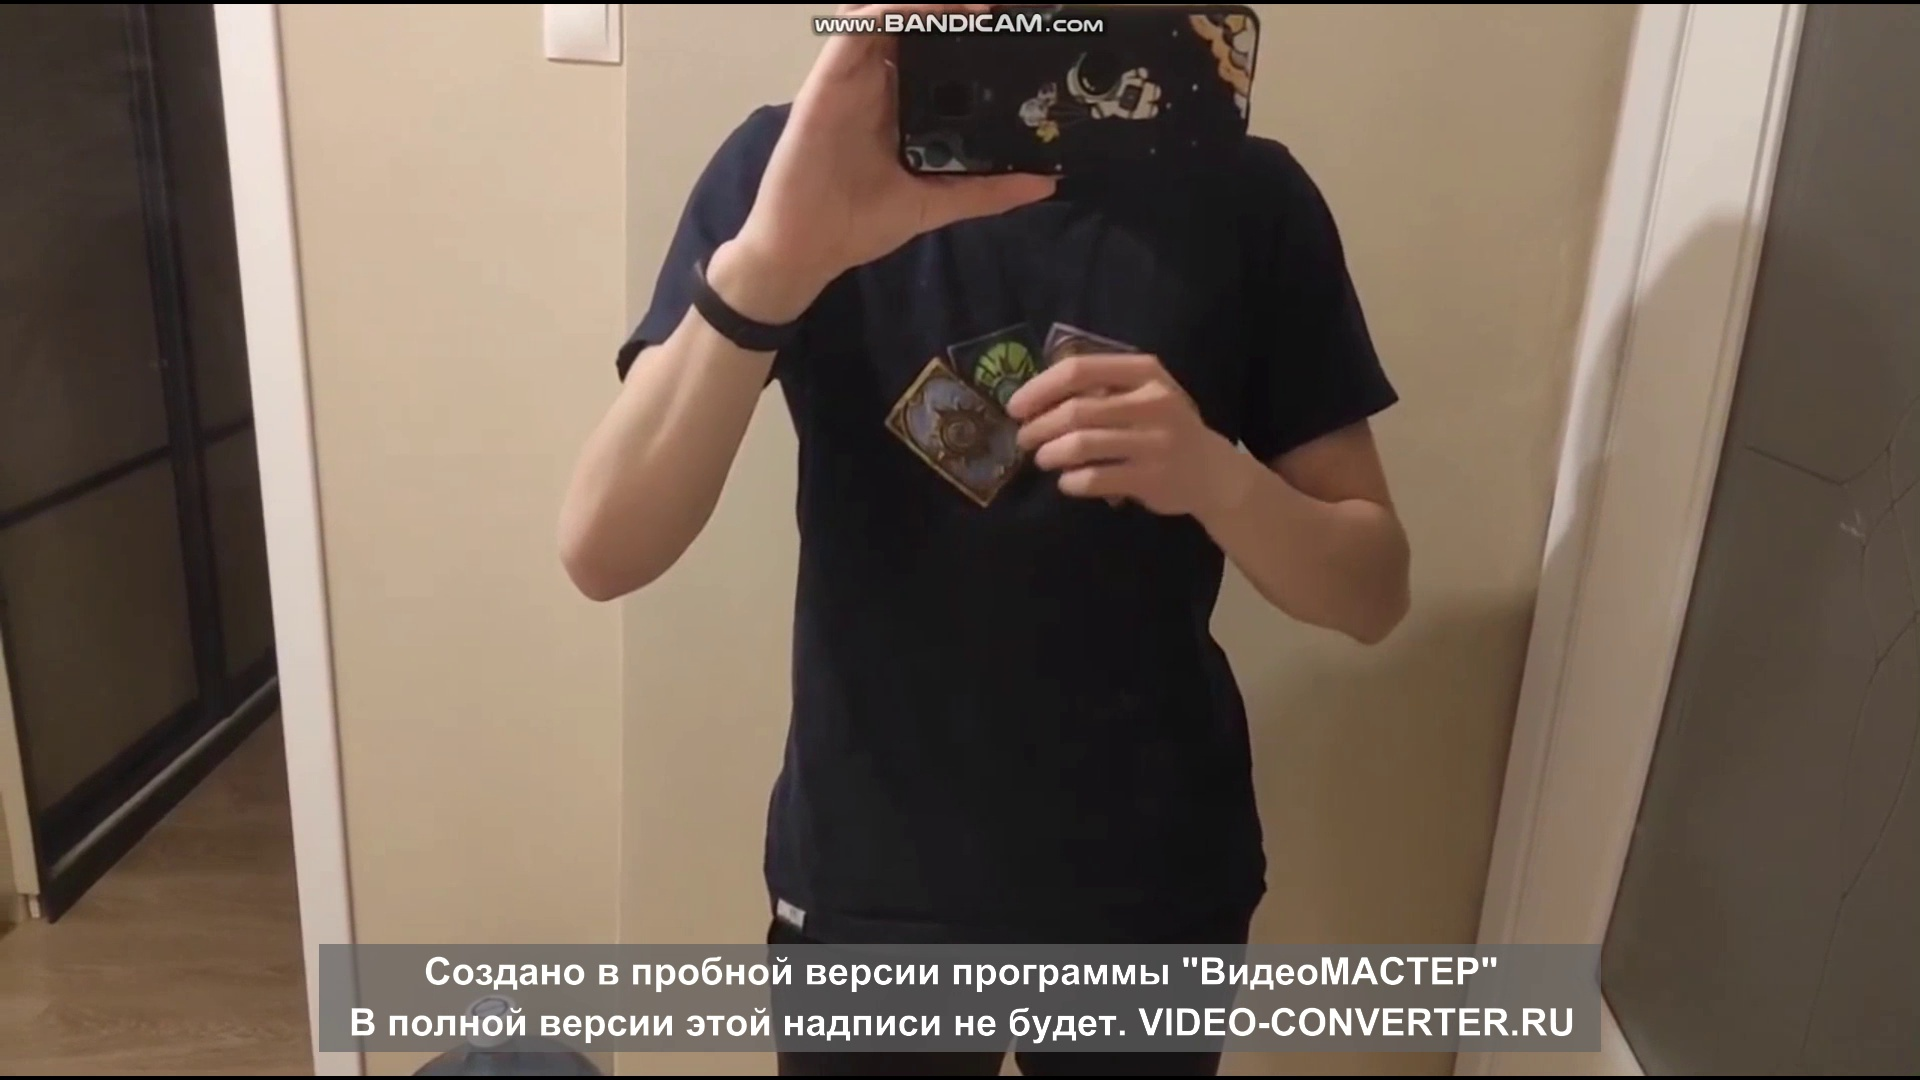Кисть: (1004, 352, 1212, 512)
